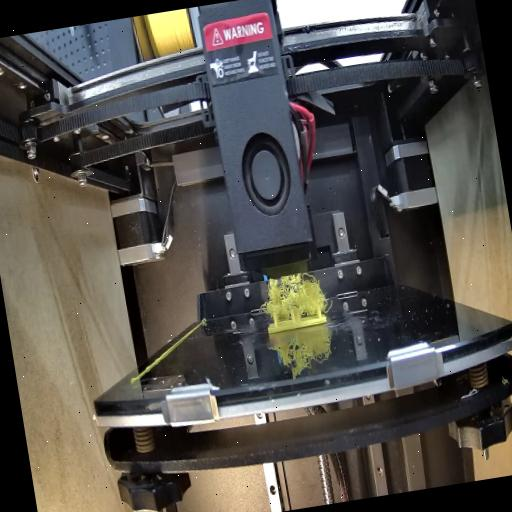spaghetti: (256, 262, 330, 326)
